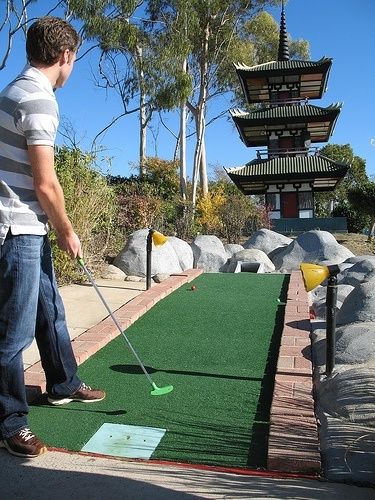head: (26, 17, 78, 88)
person: (0, 13, 101, 435)
